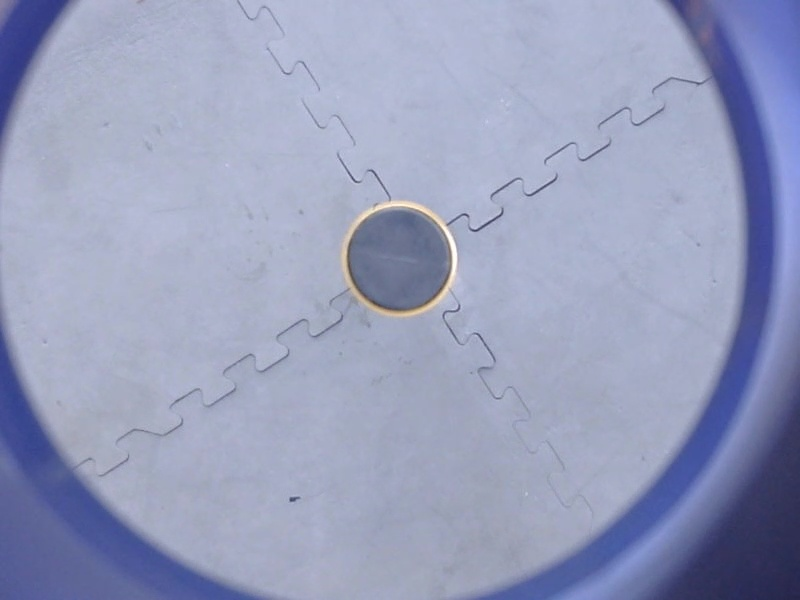tip: (335, 195, 465, 323)
